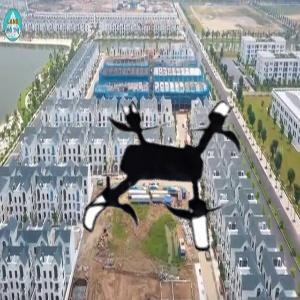drone: (70, 86, 263, 279)
